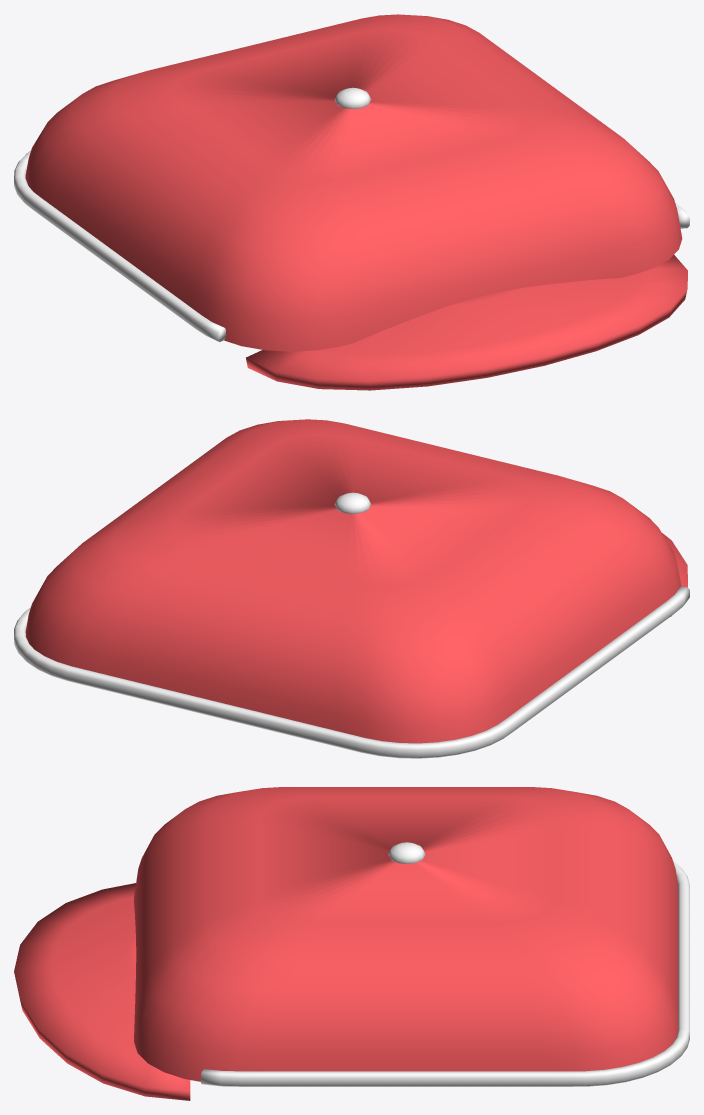
The model's file is cap.glb.
3 renders of one model, top to bottom at view 1: azimuth 30°, elevation 25°; view 2: azimuth 150°, elevation 25°; view 3: azimuth 270°, elevation 25°, orthographic.
Parts seen in each view (by area): view 1: crown, brim, trim, button; view 2: crown, trim, button; view 3: crown, brim, trim, button.
Part boxes in pixels (x1,y1,x2,y2): crown: (25,14,682,351); brim: (246,255,687,390); trim: (14,150,689,341); button: (334,87,371,108); crown: (25,419,681,743); trim: (14,586,689,758); button: (334,492,371,513); crown: (134,787,678,1081); brim: (14,883,190,1100); trim: (201,861,689,1086); button: (388,842,425,863).
Bounding box in the file's own units: 1.36 × 0.3994 × 1.62.
